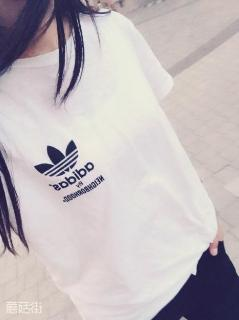short sleeve top: (0, 7, 218, 319)
